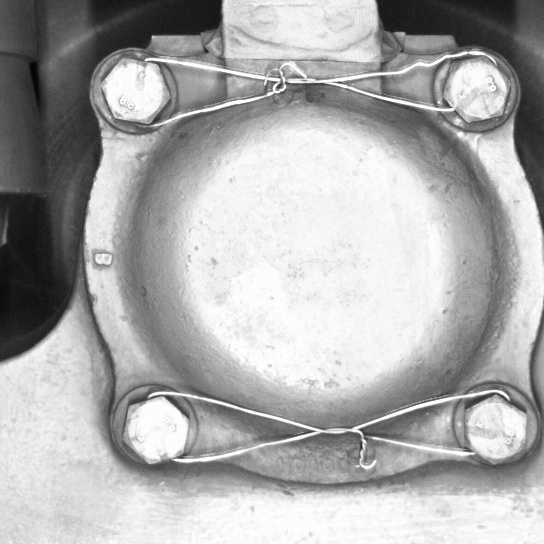IronWire: (88, 45, 519, 140), (115, 387, 536, 471)
Screw: (90, 46, 180, 137), (434, 45, 519, 133), (451, 385, 534, 470), (114, 388, 195, 473)
